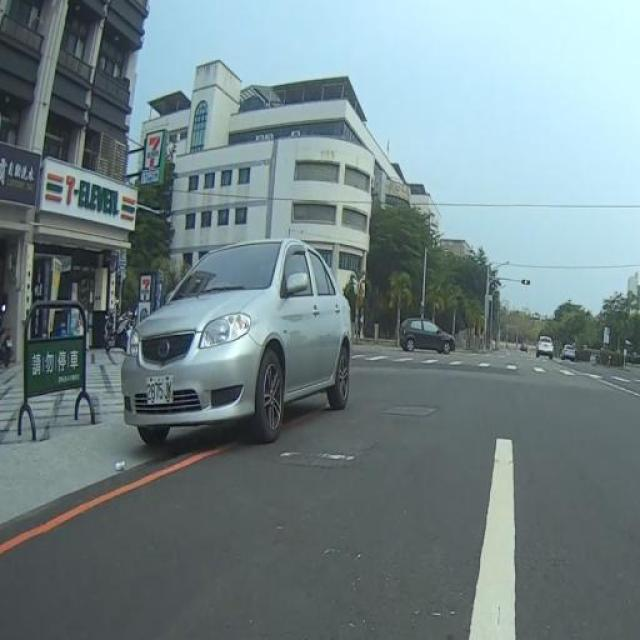illegalparking: (70, 190, 354, 476)
